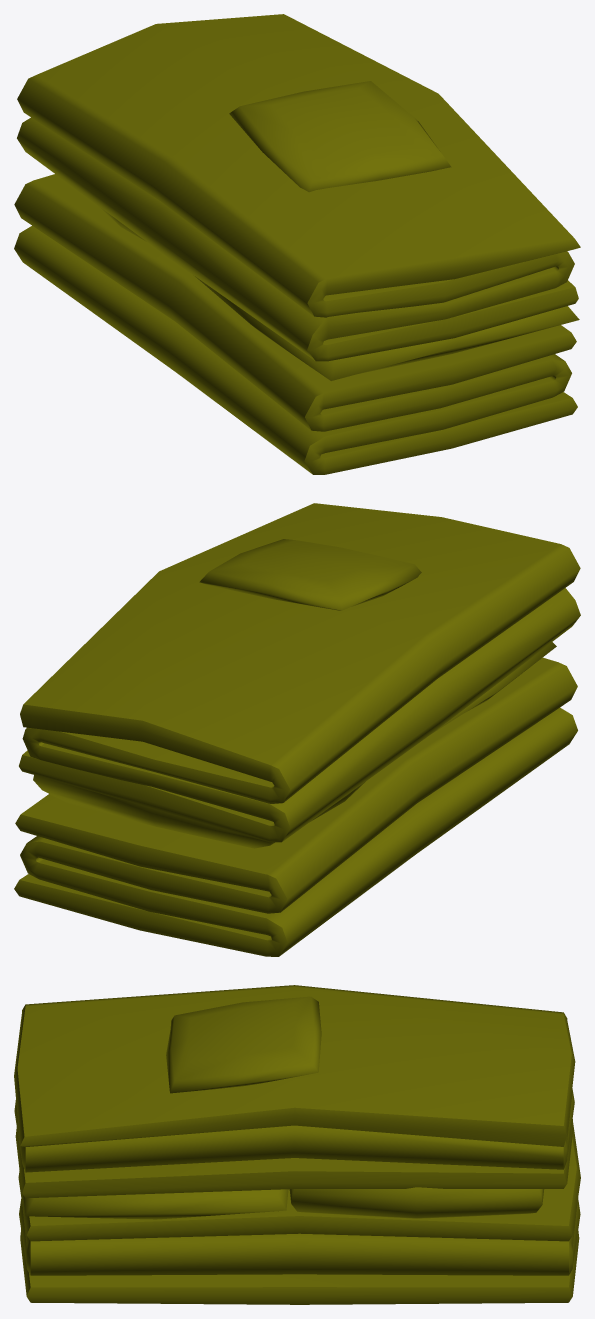
Rendered from zastyk.fbx.
3 views of the same model, one above another, from view 1: azimuth 30°, elevation 25°; view 2: azimuth 150°, elevation 25°; view 3: azimuth 270°, elevation 25° (orthographic). The views are drawn at different scales.
Visible parts, largest first — view 1: pCube172; view 2: pCube172; view 3: pCube172.
Boxes of the visible parts, <box> form: pCube172: <box>14,14,580,474</box>; pCube172: <box>14,503,580,956</box>; pCube172: <box>14,985,580,1304</box>.
Size of the model in its own units: 1.75 by 1.45 by 3.15.
